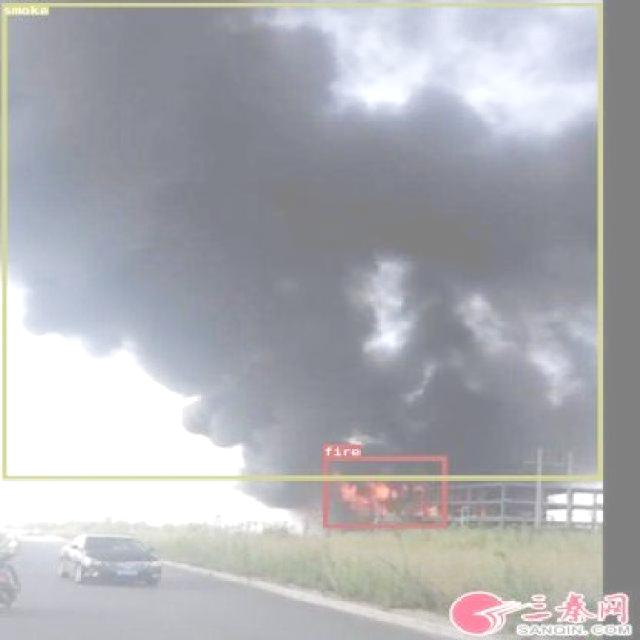fire: (322, 456, 446, 527)
smoke: (1, 2, 602, 480)
